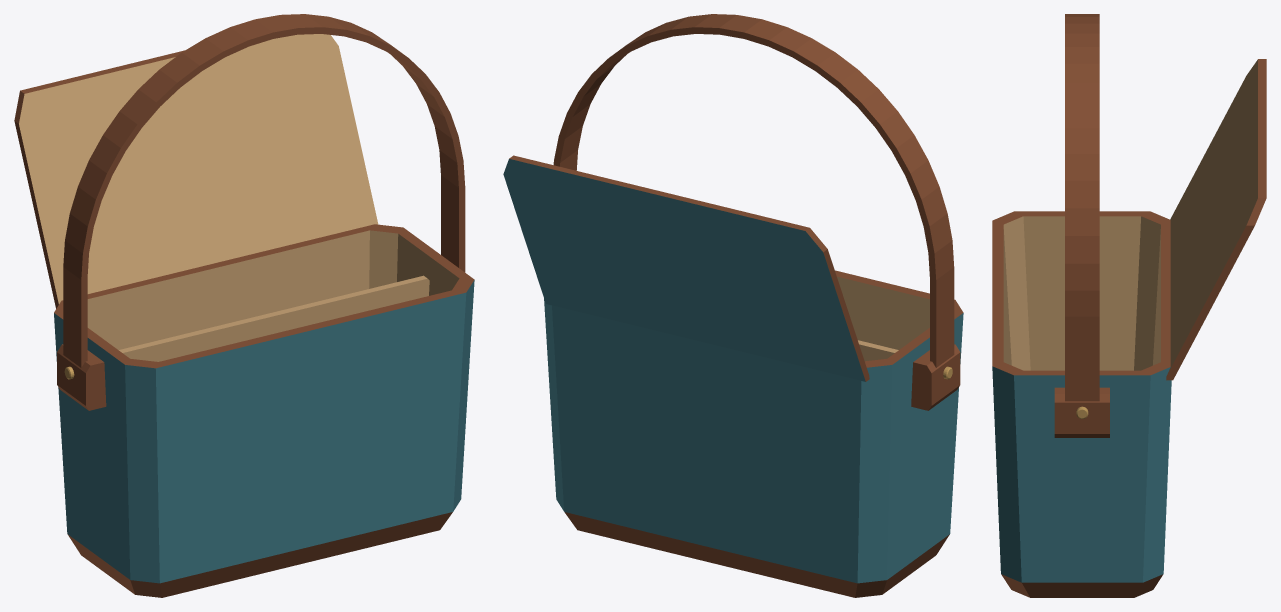
3 renders of one model, left to right at view 1: azimuth 30°, elevation 25°; view 2: azimuth 150°, elevation 25°; view 3: azimuth 270°, elevation 25°, orthographic. The views are drawn at different scales.
Parts seen in each view (by area): view 1: Body_OpenThickShell, Flap_RaisedWideCover, Strap_ContinuousSingleShoulder, Divider_TwoMailCompartments, Anchor_Left; view 2: Body_OpenThickShell, Flap_RaisedWideCover, Strap_ContinuousSingleShoulder, Anchor_Left; view 3: Body_OpenThickShell, Flap_RaisedWideCover, Strap_ContinuousSingleShoulder, Anchor_Right.
Part boxes in pixels (x1,y1,x2,y2): Body_OpenThickShell: [54, 224, 474, 597]; Flap_RaisedWideCover: [14, 34, 378, 308]; Strap_ContinuousSingleShoulder: [63, 14, 465, 367]; Divider_TwoMailCompartments: [119, 275, 429, 361]; Anchor_Left: [57, 344, 106, 410]; Body_OpenThickShell: [544, 270, 963, 597]; Flap_RaisedWideCover: [503, 155, 869, 381]; Strap_ContinuousSingleShoulder: [553, 14, 954, 367]; Anchor_Left: [911, 344, 960, 410]; Body_OpenThickShell: [992, 211, 1171, 597]; Flap_RaisedWideCover: [1166, 59, 1266, 380]; Strap_ContinuousSingleShoulder: [1065, 14, 1099, 401]; Anchor_Right: [1054, 387, 1109, 437].
Size of the model in its own units: 0.505 by 0.626 by 0.317.
